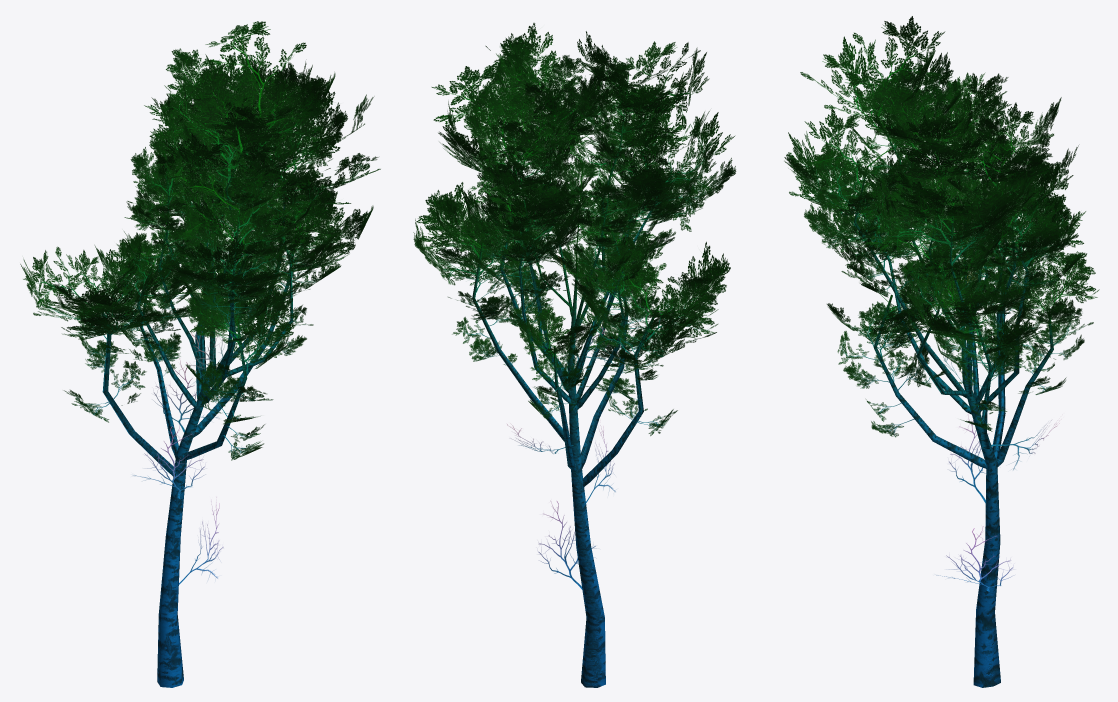
The model's file is Birch_A.glb.
3 renders of one model, left to right at view 1: azimuth 30°, elevation 25°; view 2: azimuth 150°, elevation 25°; view 3: azimuth 270°, elevation 25°, orthographic. The views are drawn at different scales.
Visible parts, largest first — view 1: BirchTreeA_LOD0; view 2: BirchTreeA_LOD0; view 3: BirchTreeA_LOD0.
Part boxes in pixels (x1,y1,x2,y2): BirchTreeA_LOD0: (20,21,380,687); BirchTreeA_LOD0: (413,23,736,687); BirchTreeA_LOD0: (784,16,1099,687).
Size of what is drawn, in the model's own units: 6.91 by 12.91 by 5.85.
Materials: 2 (2 with a texture image).
